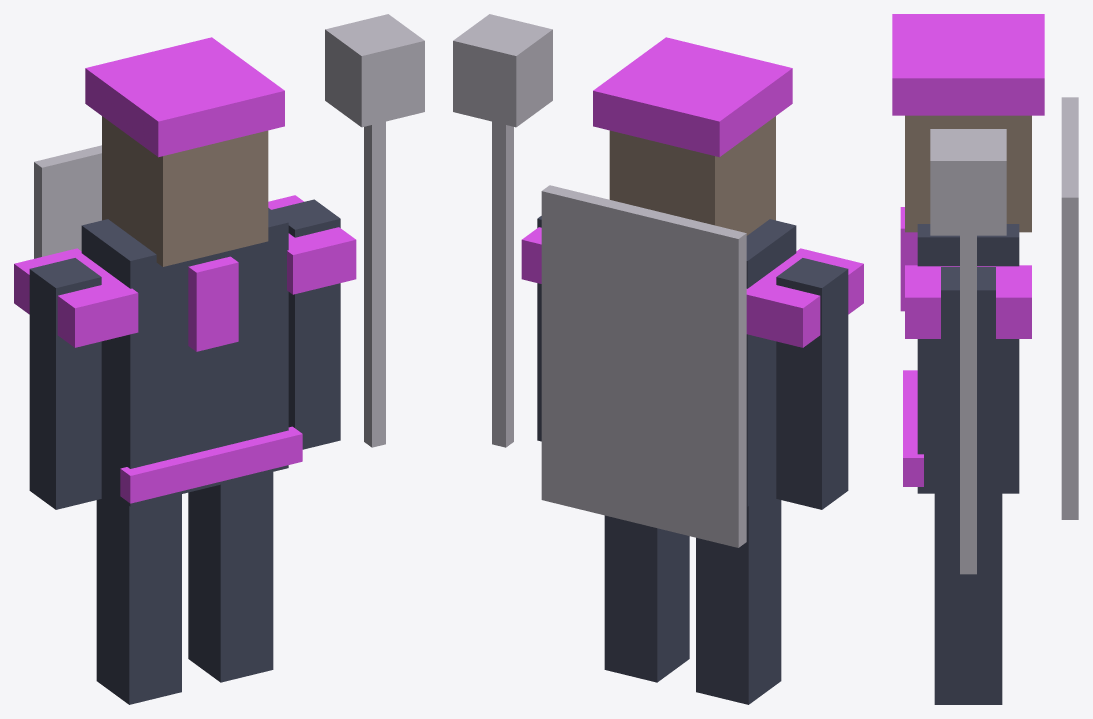
Rendered from 04_zerin_signalborn_marshal_under_service.glb.
3 views of the same model, side by side, from view 1: azimuth 30°, elevation 25°; view 2: azimuth 150°, elevation 25°; view 3: azimuth 270°, elevation 25° (orthographic). The views are drawn at different scales.
Parts seen in each view (by area): view 1: Zerin Signalborn, Marshal under Service; view 2: Zerin Signalborn, Marshal under Service; view 3: Zerin Signalborn, Marshal under Service.
Part boxes in pixels (x1,y1,x2,y2): Zerin Signalborn, Marshal under Service: [14, 14, 424, 704]; Zerin Signalborn, Marshal under Service: [453, 14, 863, 704]; Zerin Signalborn, Marshal under Service: [892, 14, 1078, 704].
Size of the model in its own units: 1.07 by 1.67 by 0.4545.
